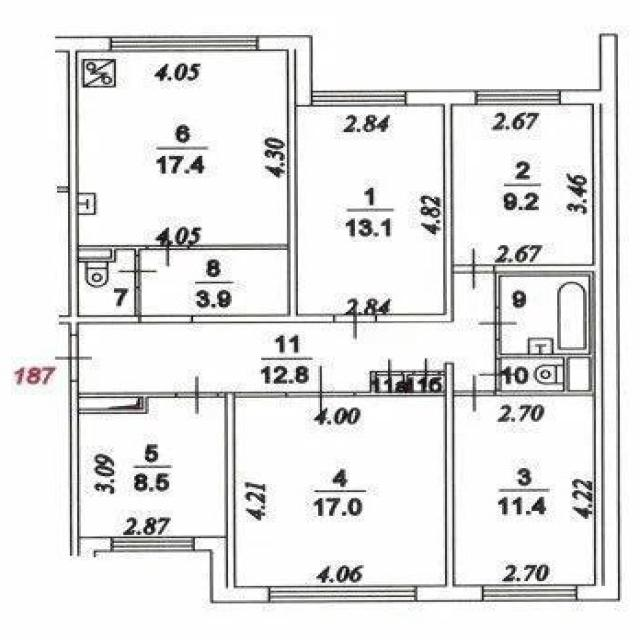Bathrooms: (500, 277, 589, 352), (79, 249, 134, 315), (502, 358, 564, 390)
Corridors: (80, 274, 494, 392), (141, 251, 287, 314), (410, 375, 444, 391), (378, 375, 402, 391)
Doors: (286, 363, 355, 429), (454, 247, 496, 292), (175, 375, 219, 416), (54, 335, 93, 381), (333, 301, 377, 341), (455, 374, 496, 414), (116, 255, 158, 289), (477, 306, 517, 341), (147, 239, 191, 269), (477, 359, 518, 390), (411, 358, 440, 386), (375, 359, 403, 386), (140, 316, 192, 323)
LBwalls: (561, 32, 623, 603), (194, 536, 270, 604), (257, 34, 313, 107), (417, 584, 483, 602), (407, 90, 476, 106), (54, 36, 110, 51), (78, 536, 111, 559)
Offices: (77, 50, 286, 243), (236, 399, 444, 585), (297, 106, 443, 313), (454, 396, 594, 584), (454, 107, 592, 264), (79, 399, 225, 537)
Walls: (493, 104, 603, 585), (189, 50, 334, 323), (54, 50, 147, 336), (355, 362, 454, 587), (70, 381, 176, 557), (376, 106, 454, 322), (218, 391, 287, 588)
Windows: (109, 35, 258, 51), (269, 586, 417, 601), (482, 585, 577, 601), (313, 91, 407, 106), (476, 88, 561, 104), (111, 538, 193, 551)
